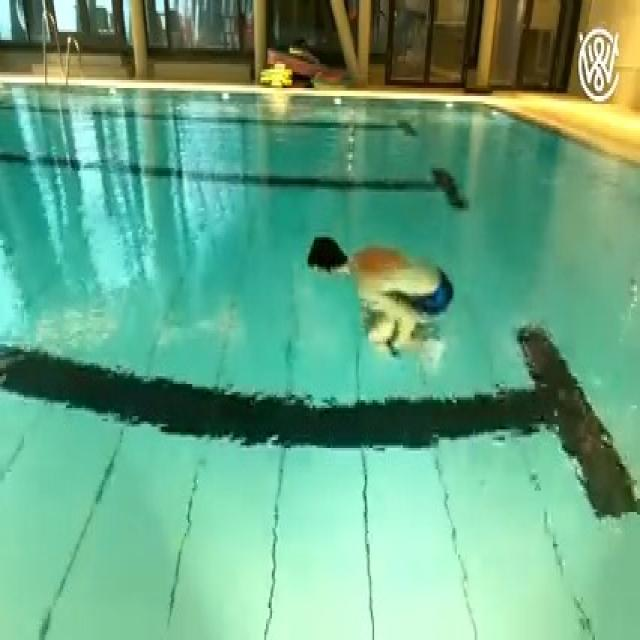Swimming: (304, 231, 458, 376)
